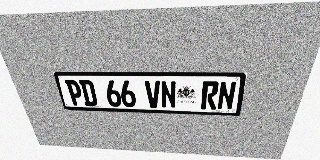6: (104, 80, 122, 107), (119, 80, 136, 107)
D: (79, 80, 98, 106)
N: (217, 81, 237, 110), (160, 81, 176, 108)
P: (64, 80, 85, 106)
R: (201, 81, 219, 109)
V: (145, 80, 161, 108)
